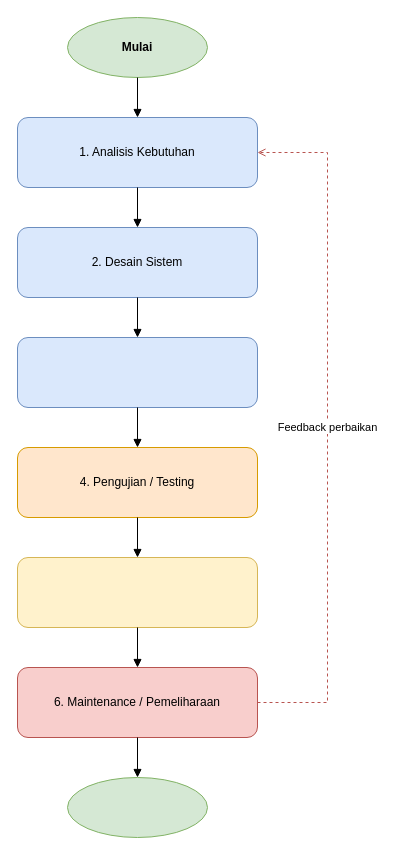
This 395x855 diagram has some shape labels left out. The shapes that lost their labels are listed below. From the top down, each one's centre as x and y in pixels, then its label:
At pixel 137 372: "3. Implementasi / Coding".
At pixel 137 592: "5. Deployment / Penerapan".
At pixel 137 807: "Selesai".
